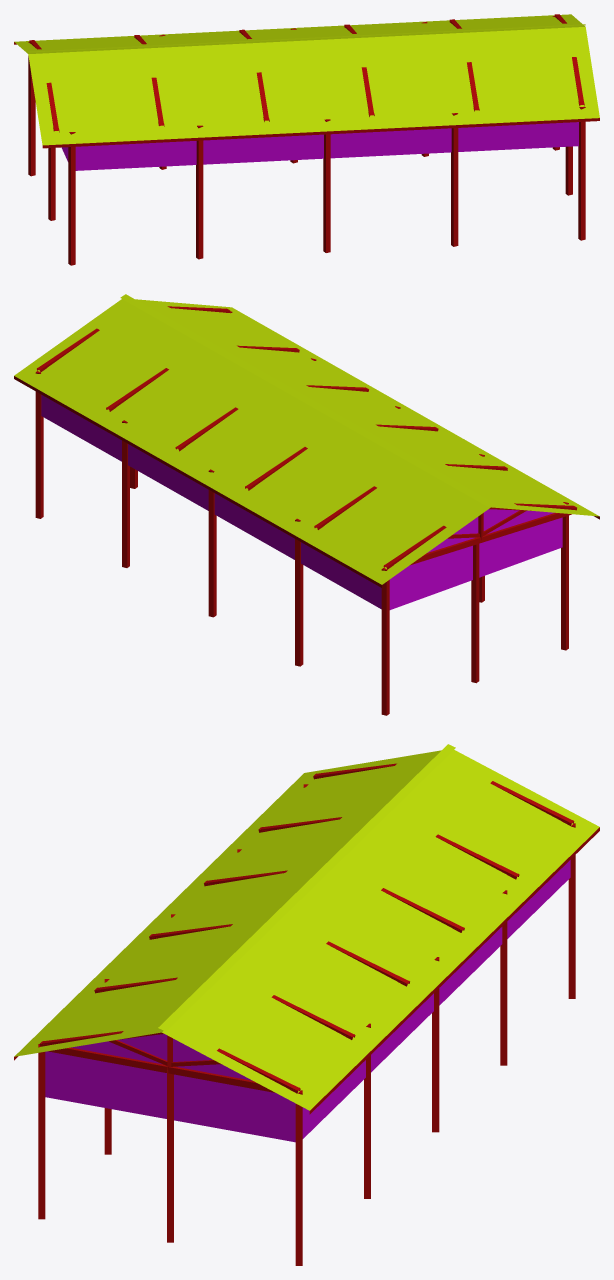
The model's file is stabulation_b.glb.
The picture shows the model from 3 angles, top to bottom: view 1: azimuth 30°, elevation 25°; view 2: azimuth 150°, elevation 25°; view 3: azimuth 270°, elevation 25°; orthographic projection. The views are drawn at different scales.
Parts seen in each view (by area): view 1: stabulation_b; view 2: stabulation_b; view 3: stabulation_b.
Part boxes in pixels (x1,y1,x2,y2): stabulation_b: [14, 14, 599, 265]; stabulation_b: [14, 294, 599, 715]; stabulation_b: [14, 744, 599, 1265].
Bounding box in the file's own units: 22.72 × 6.93 × 16.65.
